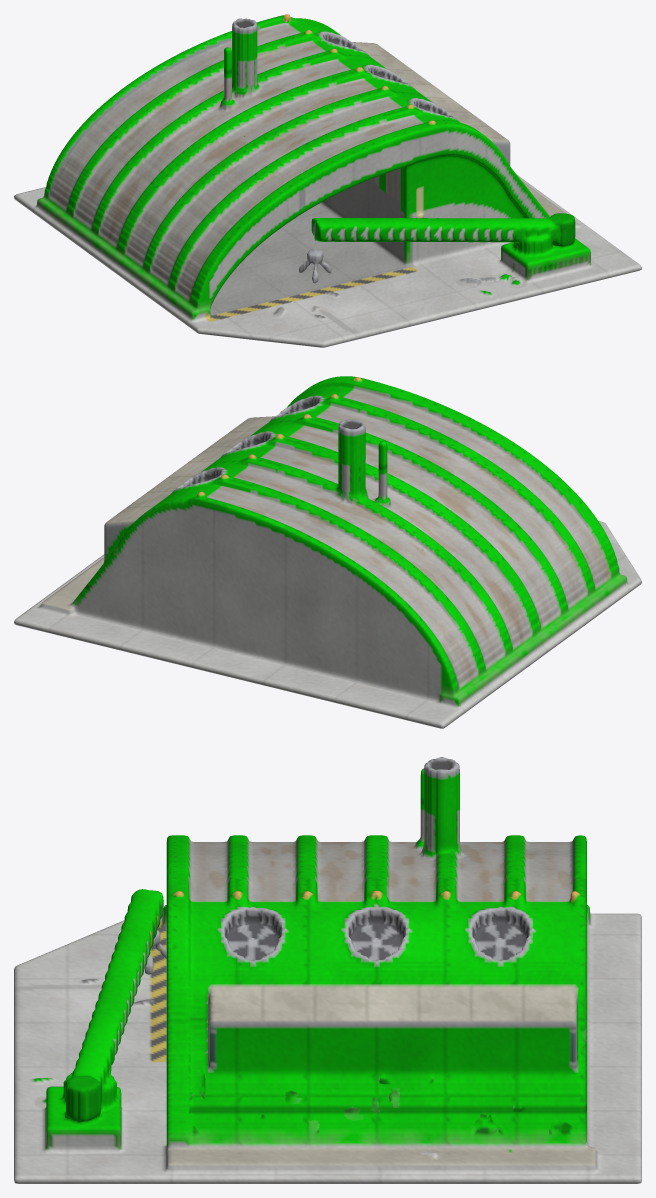
Rendered from construction-yard.glb.
3 renders of one model, top to bottom at view 1: azimuth 30°, elevation 25°; view 2: azimuth 150°, elevation 25°; view 3: azimuth 270°, elevation 25°, orthographic. The views are drawn at different scales.
Visible parts, largest first — view 1: construction-yard, construction-yard-damaged; view 2: construction-yard; view 3: construction-yard, construction-yard-damaged.
Boxes of the visible parts, box(x1,y1,x2,y2) form: construction-yard: box(14, 14, 641, 347); construction-yard-damaged: box(97, 20, 530, 321); construction-yard: box(14, 376, 641, 728); construction-yard: box(14, 757, 641, 1183); construction-yard-damaged: box(25, 844, 586, 1162).
Size of the model in its own units: 3.01 by 1.38 by 3.01.
